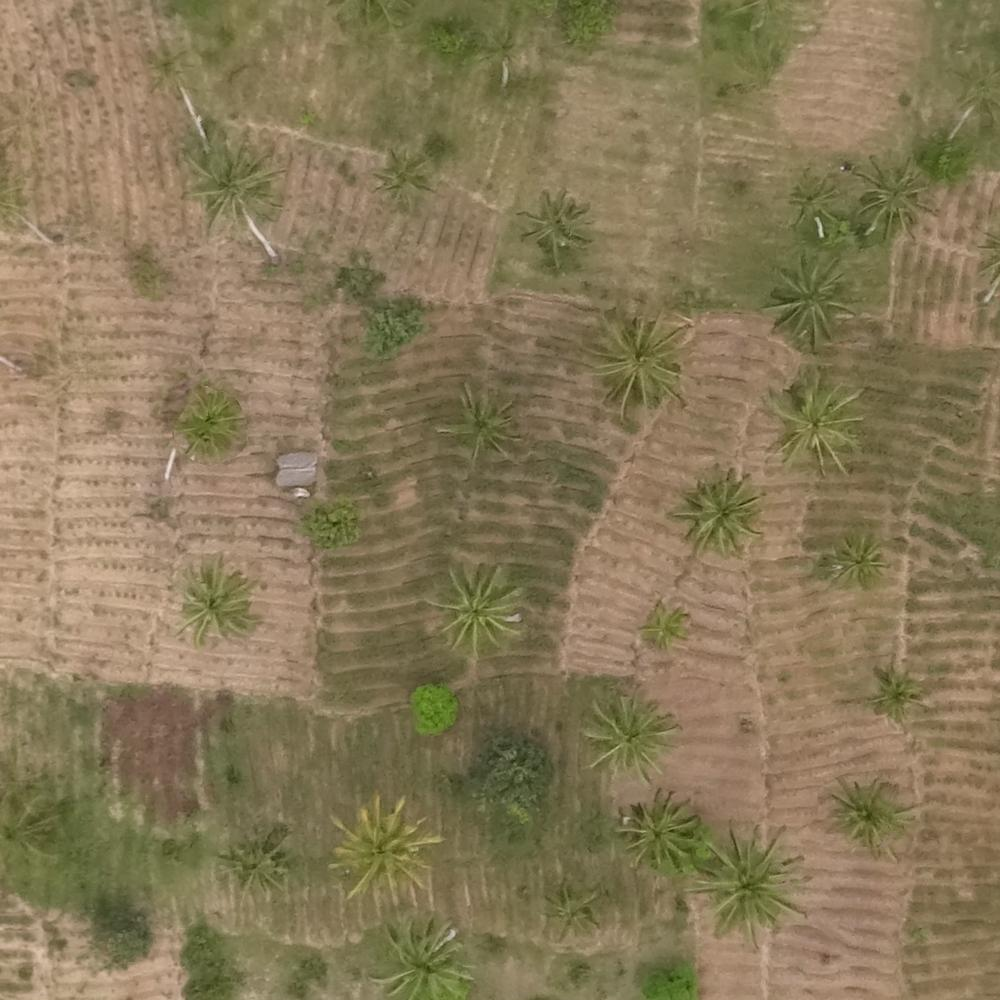Palm: (699, 829, 804, 936), (329, 802, 435, 902), (764, 374, 867, 472), (587, 315, 687, 413), (182, 133, 279, 231), (764, 257, 857, 346), (374, 921, 473, 998), (615, 790, 702, 877), (852, 154, 939, 238), (674, 473, 766, 552), (431, 565, 514, 648), (586, 694, 670, 776), (439, 381, 522, 463), (821, 774, 904, 855), (172, 560, 257, 638), (517, 186, 593, 259), (213, 830, 286, 897), (173, 389, 247, 454), (536, 883, 600, 946), (865, 667, 930, 727), (825, 534, 893, 591), (373, 150, 431, 207), (636, 601, 691, 650)
